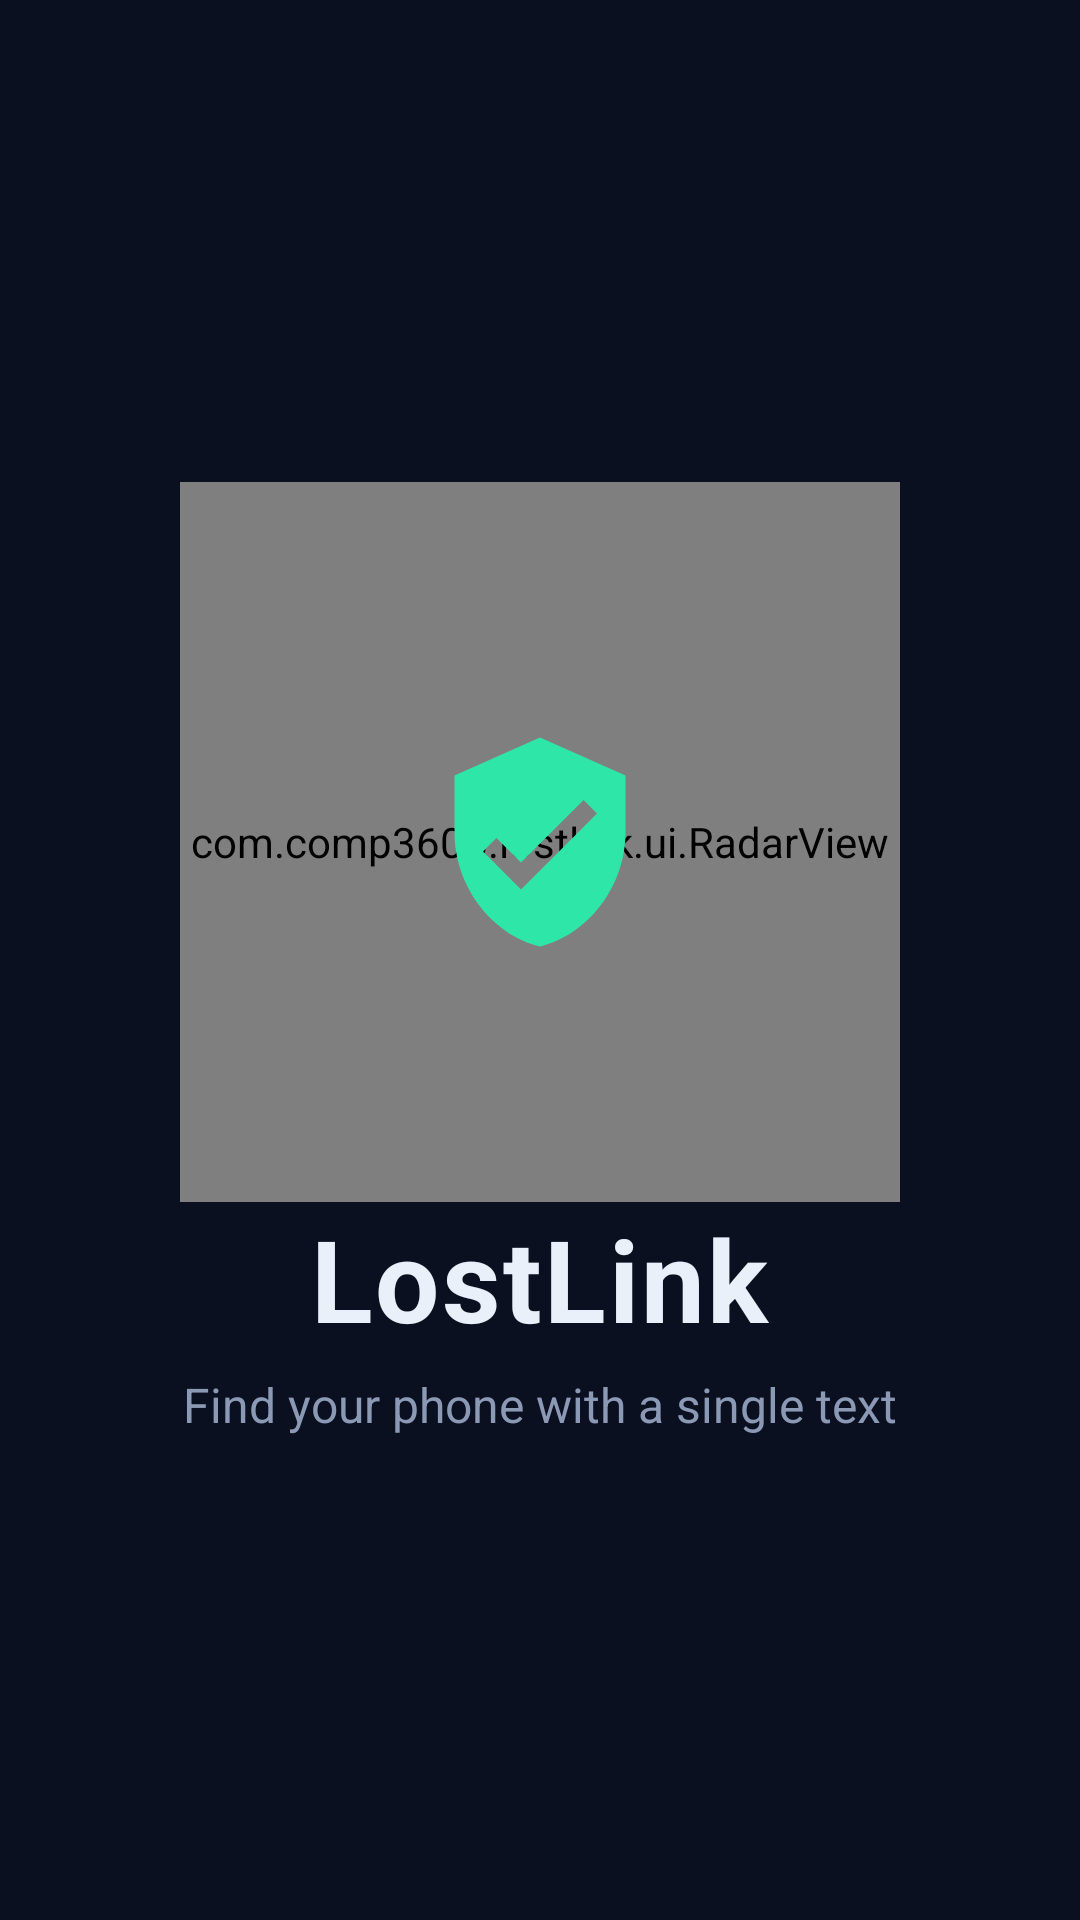

Point at icon controls on the screen. Image size 1080px×1920px, points as [x,y].
shield check: [541,842]
